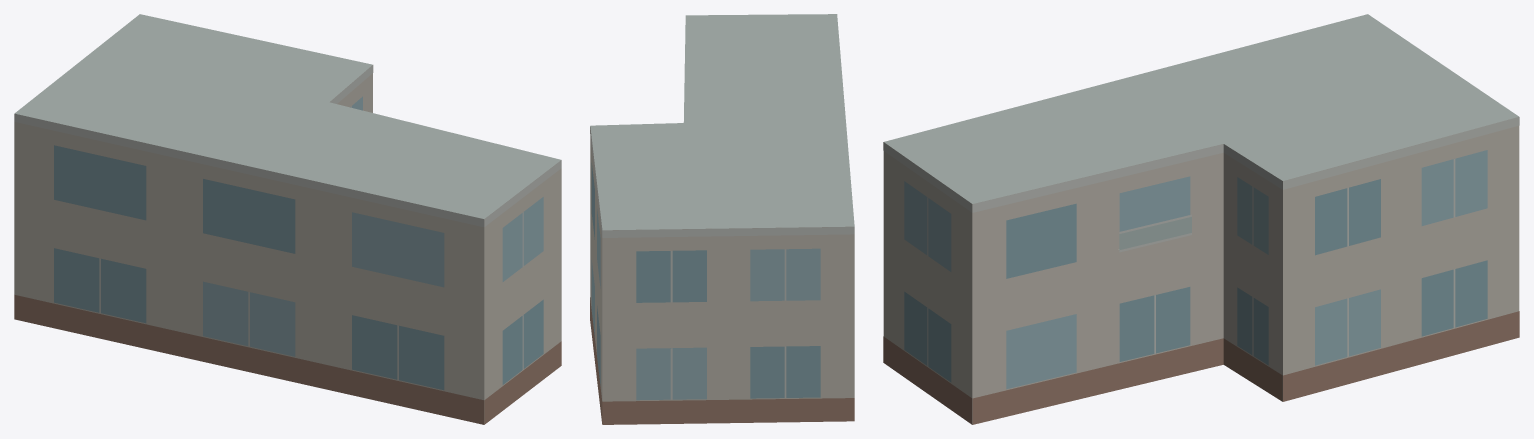
The model's file is survey-upis-32766266.glb.
3 views of the same model, side by side, from view 1: azimuth 30°, elevation 25°; view 2: azimuth 150°, elevation 25°; view 3: azimuth 270°, elevation 25° (orthographic). The views are drawn at different scales.
Parts seen in each view (by area): view 1: survey-upis-32766266.tmp; view 2: survey-upis-32766266.tmp; view 3: survey-upis-32766266.tmp.
Part boxes in pixels (bbox=[...]): survey-upis-32766266.tmp: bbox=[14, 14, 561, 424]; survey-upis-32766266.tmp: bbox=[590, 14, 854, 424]; survey-upis-32766266.tmp: bbox=[883, 14, 1519, 424].
Size of the model in its own units: 11.27 by 6.1 by 15.93.
